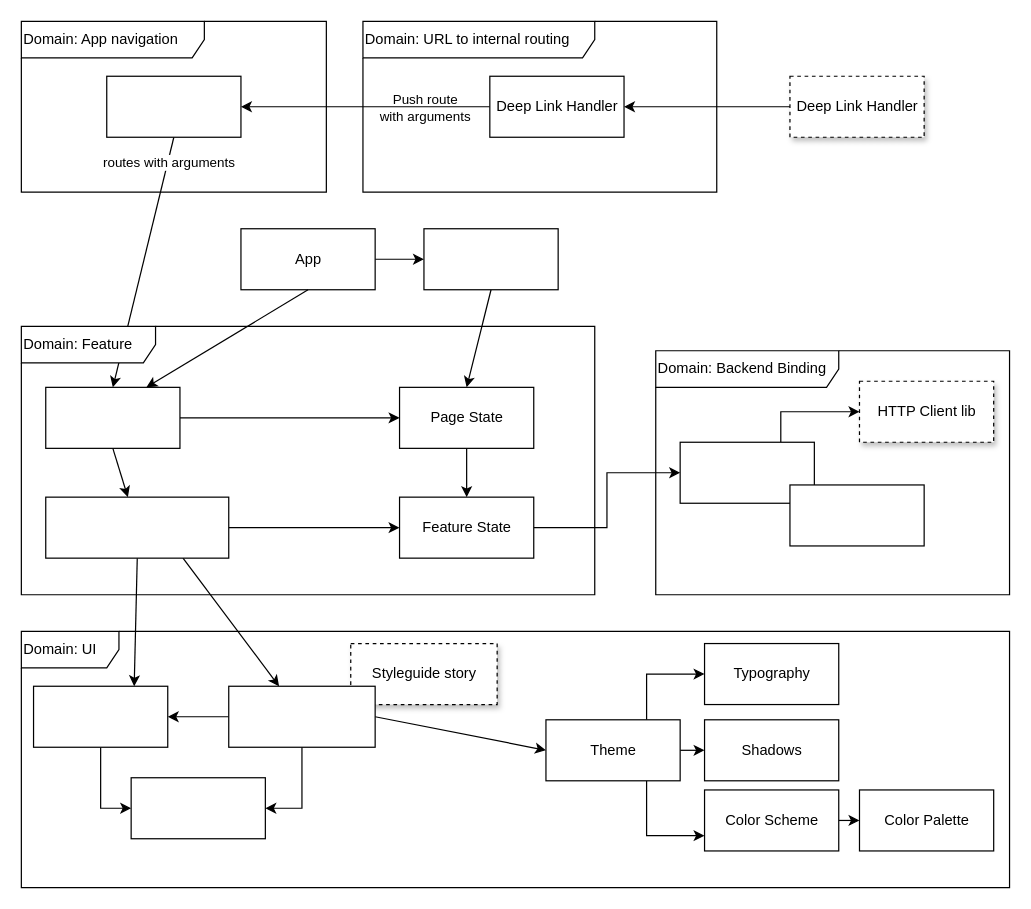
The diagram is 1031 pixels wide and 909 high, and some of its shapes have lost their labels. Each missing label, with the centre of its shape:
"API Client" goes at [746,472].
"API Datatypes" goes at [856,515].
"App State" goes at [490,259].
"Controller" goes at [100,716].
"Integration UI Component" goes at [137,527].
"Page" goes at [112,417].
"Pure UI Component" goes at [301,716].
"Pure UI state" goes at [197,808].
"Router" goes at [173,106].
